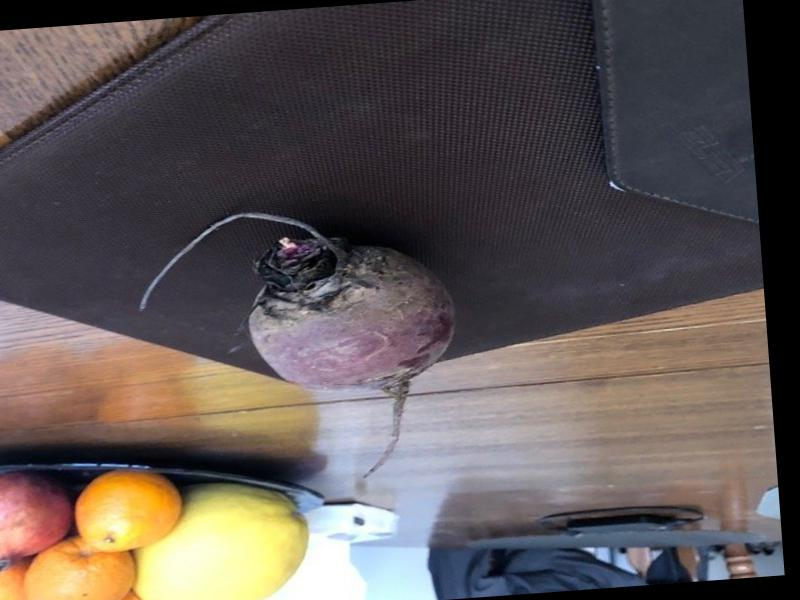Beet: (132, 197, 466, 494)
